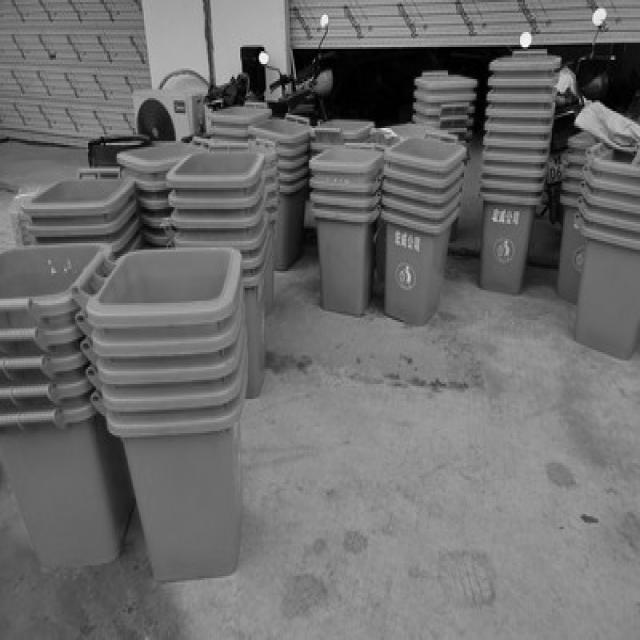ash bin: (104, 406, 246, 584), (3, 403, 128, 563), (379, 212, 459, 326), (572, 220, 638, 358), (309, 203, 382, 318), (475, 192, 539, 288)
